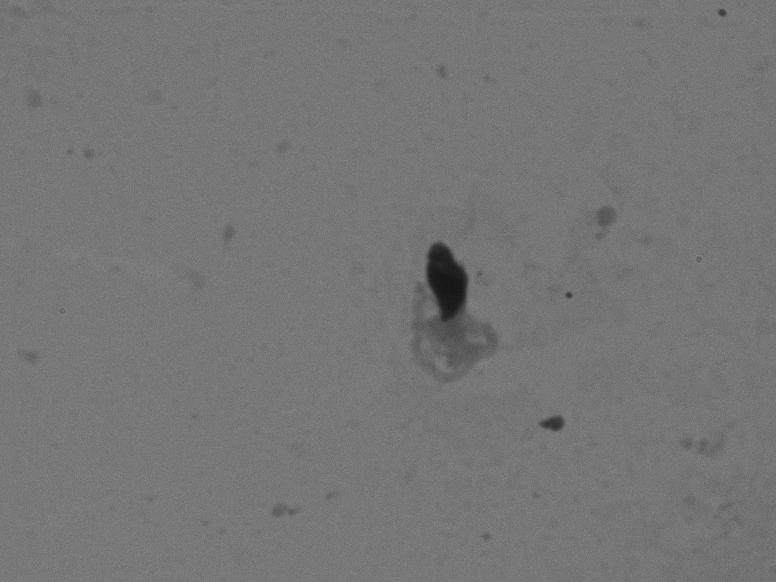Abnormal: (331, 205, 526, 432)
